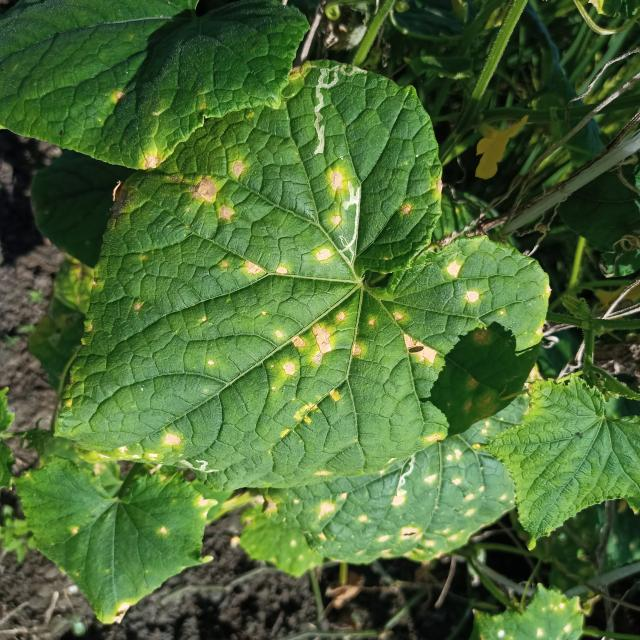disease_cucumber: (136, 141, 505, 474), (332, 446, 515, 566)
